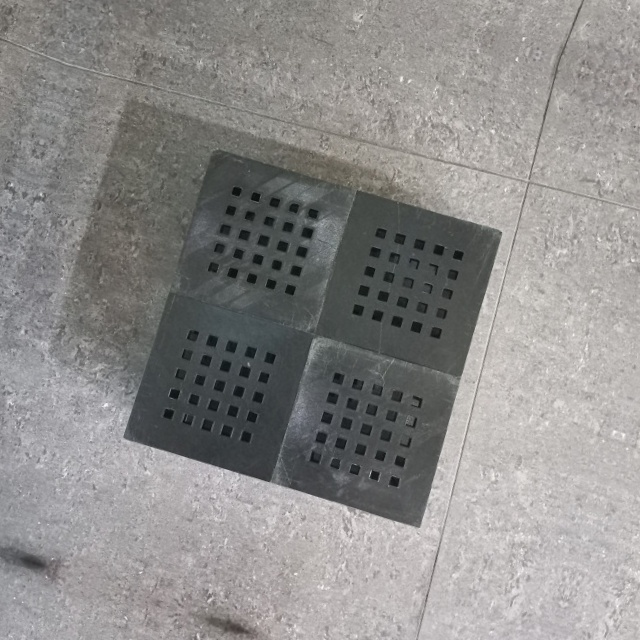pallet: (115, 139, 509, 533)
